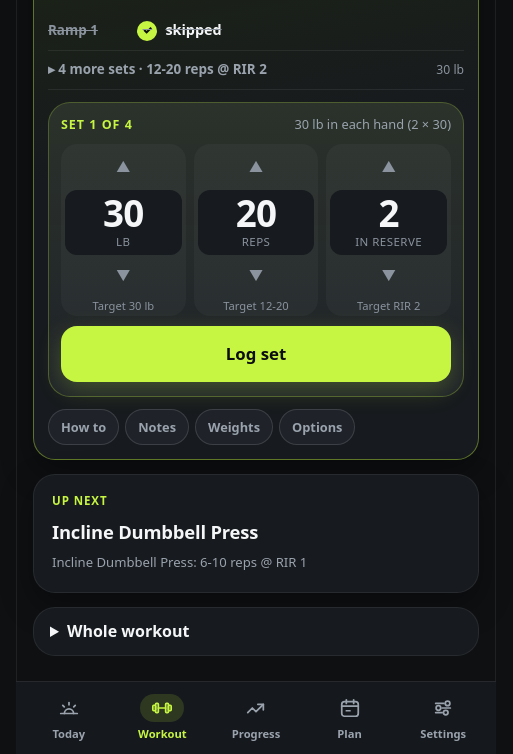
Test: a kettlebell lift’s Weights at a gym with dumbbells too (the re-check) › names the one record both share
The width and height of the screenshot is (513, 754).
(page scrolled)
Click the tab with test id "plates-tab" at (234, 427), box [195, 409, 273, 445]
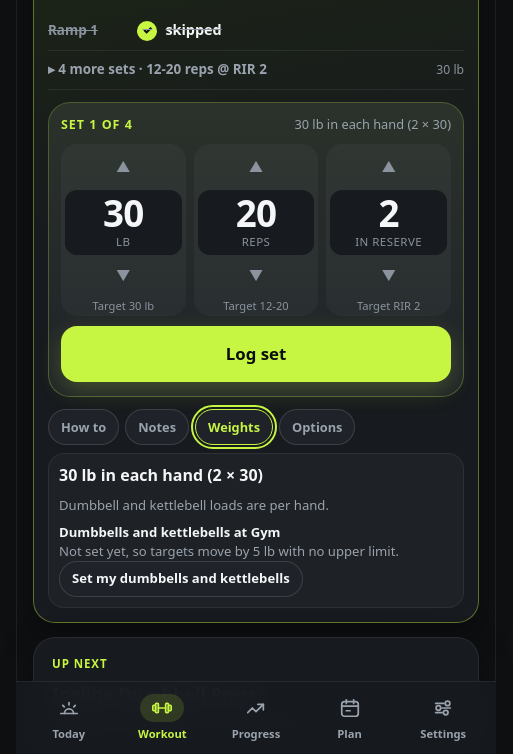
Now the element with test id "loading-editor" shows "Dumbbells and kettlebells at Gym", box [59, 523, 280, 541]
